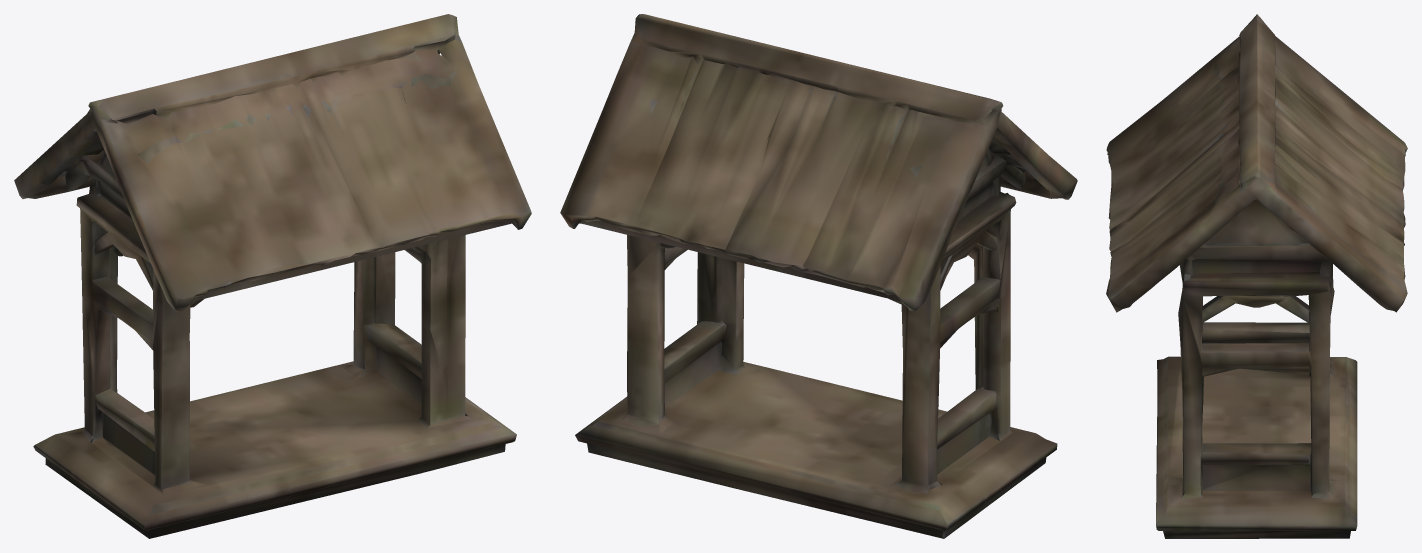
Rendered from ornate-wood-market-stall-v001.glb.
3 views of the same model, side by side, from view 1: azimuth 30°, elevation 25°; view 2: azimuth 150°, elevation 25°; view 3: azimuth 270°, elevation 25° (orthographic). The views are drawn at different scales.
Visible parts, largest first — view 1: ornate-wood-market-stall; view 2: ornate-wood-market-stall; view 3: ornate-wood-market-stall.
Part boxes in pixels (bbox=[...]): ornate-wood-market-stall: bbox=[14, 14, 531, 538]; ornate-wood-market-stall: bbox=[560, 14, 1077, 538]; ornate-wood-market-stall: bbox=[1106, 14, 1407, 538].
Size of the model in its own units: 2.45 by 2.53 by 1.89.
1 material, 1 textured.
